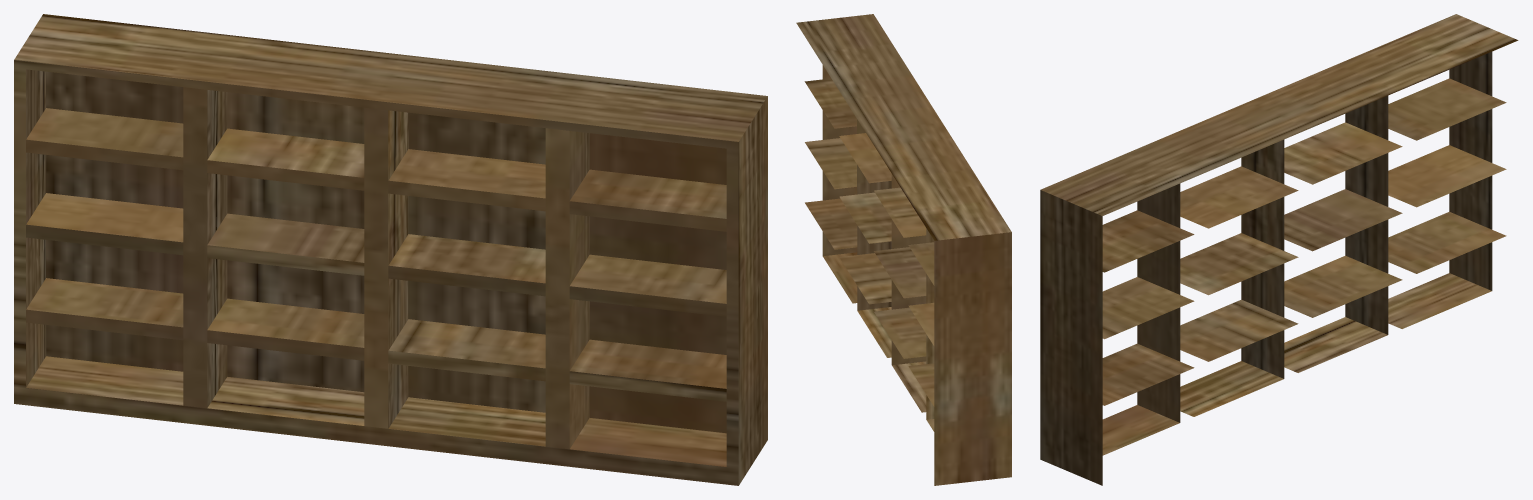
The model's file is cabinet.glb.
3 renders of one model, left to right at view 1: azimuth 30°, elevation 25°; view 2: azimuth 150°, elevation 25°; view 3: azimuth 270°, elevation 25°, orthographic. The views are drawn at different scales.
Parts seen in each view (by area): view 1: cabinet; view 2: cabinet; view 3: cabinet.
Part boxes in pixels (x1,y1,x2,y2): cabinet: (14, 14, 767, 485); cabinet: (796, 14, 1011, 485); cabinet: (1040, 14, 1518, 485).
Size of the model in its own units: 1.63 by 1.01 by 1.63.
Materials: 1 (1 with a texture image).
